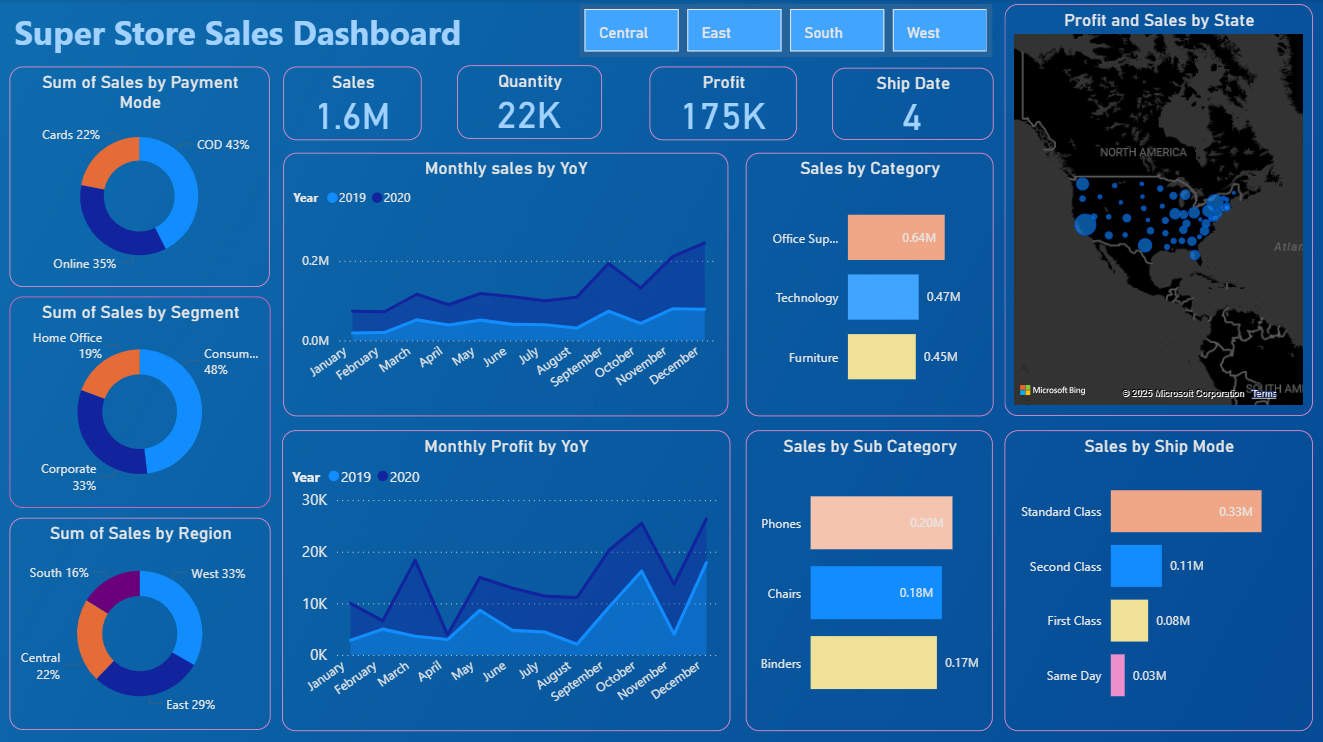

This screenshot's page, from the dashboard's own definition file:
{"tool":"powerbi","page":{"name":"Page 1","canvas":[1280,720],"ordinal":0},"visuals":[{"type":"clusteredBarChart","title":"Sales by Category","fields":{"Category":["SuperStore_Sales_Dataset.Category"],"Y":["Sum(SuperStore_Sales_Dataset.Sales)"]},"box":[722.7,148.4,238.9,254.6],"z":0},{"type":"clusteredBarChart","title":"Sales by  Sub Category","fields":{"Category":["SuperStore_Sales_Dataset.Sub-Category"],"Y":["Sum(SuperStore_Sales_Dataset.Sales)"]},"box":[722.5,416.2,238.8,290],"z":1000},{"type":"stackedAreaChart","title":"Monthly sales by YoY","fields":{"Category":["SuperStore_Sales_Dataset.Order Date.Variation.Date Hierarchy.Month","SuperStore_Sales_Dataset.Order Date.Variation.Date Hierarchy.Day"],"Y":["Sum(SuperStore_Sales_Dataset.Sales)"],"Series":["SuperStore_Sales_Dataset.Order Date.Variation.Date Hierarchy.Year"]},"box":[276.3,148.4,429.5,254.6],"z":2000},{"type":"stackedAreaChart","title":"Monthly Profit by YoY","fields":{"Category":["SuperStore_Sales_Dataset.Order Date.Variation.Date Hierarchy.Month","SuperStore_Sales_Dataset.Order Date.Variation.Date Hierarchy.Day"],"Series":["SuperStore_Sales_Dataset.Order Date.Variation.Date Hierarchy.Year"],"Y":["Sum(SuperStore_Sales_Dataset.Profit)"]},"box":[275,416.2,432.5,290],"z":3000},{"type":"map","title":"Profit and Sales by State","fields":{"Category":["SuperStore_Sales_Dataset.State"],"Size":["Sum(SuperStore_Sales_Dataset.Sales)"]},"box":[972.5,5,297.5,397.5],"z":4000},{"type":"donutChart","fields":{"Category":["SuperStore_Sales_Dataset.Segment"],"Y":["Sum(SuperStore_Sales_Dataset.Sales)"]},"box":[12.1,287.1,252.1,203.9],"z":5000},{"type":"donutChart","fields":{"Category":["SuperStore_Sales_Dataset.Payment Mode"],"Y":["Sum(SuperStore_Sales_Dataset.Sales)"]},"box":[12.5,65,251.2,212.5],"z":6000},{"type":"advancedSlicerVisual","fields":{"Values":["SuperStore_Sales_Dataset.Region"]},"box":[562.5,5,398.8,51.2],"z":7000},{"type":"textbox","box":[0,5,465,70],"z":8000},{"type":"card","title":"Sales","fields":{"Values":["Sum(SuperStore_Sales_Dataset.Sales)"]},"box":[276.3,65.1,133.9,71.2],"z":9000},{"type":"card","title":"Quantity","fields":{"Values":["Sum(SuperStore_Sales_Dataset.Quantity)"]},"box":[444,63.9,139.9,71.2],"z":10000},{"type":"card","title":"Profit","fields":{"Values":["Sum(SuperStore_Sales_Dataset.Profit)"]},"box":[629.8,65.1,142.4,71.2],"z":11000},{"type":"card","title":"Ship Date","fields":{"Values":["Avg(SuperStore_Sales_Dataset.AvgDelivery)"]},"box":[805.9,66.4,155.6,70],"z":12000},{"type":"clusteredBarChart","title":"Sales by  Ship Mode","fields":{"Category":["SuperStore_Sales_Dataset.Ship Mode","SuperStore_Sales_Dataset.Sub-Category"],"Y":["Sum(SuperStore_Sales_Dataset.Sales)"]},"box":[972.5,416.2,297.5,290],"z":13000},{"type":"donutChart","fields":{"Category":["SuperStore_Sales_Dataset.Region"],"Y":["Sum(SuperStore_Sales_Dataset.Sales)"]},"box":[12.1,500.7,252.1,205.1],"z":14000}]}

Visuals, with their boxes in screenshot pixels (x1, y1, x2, y2), scaled from the page's 1280x720 canvas onto the 1323x742 screenshot:
"Sales by Category" clusteredBarChart: 747:153:994:415
"Sales by  Sub Category" clusteredBarChart: 747:429:994:728
"Monthly sales by YoY" stackedAreaChart: 286:153:730:415
"Monthly Profit by YoY" stackedAreaChart: 284:429:731:728
"Profit and Sales by State" map: 1005:5:1313:415
donutChart - SuperStore_Sales_Dataset.Segment x Sum(SuperStore_Sales_Dataset.Sales): 13:296:273:506
donutChart - SuperStore_Sales_Dataset.Payment Mode x Sum(SuperStore_Sales_Dataset.Sales): 13:67:273:286
advancedSlicerVisual - SuperStore_Sales_Dataset.Region: 581:5:994:58
textbox: 0:5:481:77
"Sales" card: 286:67:424:140
"Quantity" card: 459:66:604:139
"Profit" card: 651:67:798:140
"Ship Date" card: 833:68:994:141
"Sales by  Ship Mode" clusteredBarChart: 1005:429:1313:728
donutChart - SuperStore_Sales_Dataset.Region x Sum(SuperStore_Sales_Dataset.Sales): 13:516:273:727
